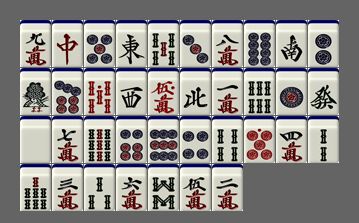0m: (148, 68, 179, 115)
0p: (244, 116, 275, 163)
0s: (84, 68, 115, 115)
1m: (212, 68, 243, 115)
1p: (276, 68, 307, 115)
1s: (20, 68, 51, 115)
1z: (116, 20, 147, 67)
2m: (212, 164, 243, 211)
2p: (308, 20, 339, 67)
2s: (308, 116, 339, 163)
2z: (276, 20, 307, 67)
3m: (52, 164, 83, 211)
3p: (180, 20, 211, 67)
3s: (84, 164, 115, 211)
3z: (116, 68, 147, 115)
4m: (276, 116, 307, 163)
4p: (180, 116, 211, 163)
4s: (212, 116, 243, 163)
4z: (180, 68, 211, 115)
5m: (180, 164, 211, 211)
5p: (84, 20, 115, 67)
5s: (148, 20, 179, 67)
5z: (20, 116, 51, 163)
6m: (116, 164, 147, 211)
6p: (116, 116, 147, 163)
6s: (244, 68, 275, 115)
6z: (308, 68, 339, 115)
7m: (52, 116, 83, 163)
7p: (52, 68, 83, 115)
7s: (20, 164, 51, 211)
7z: (52, 20, 83, 67)
8m: (212, 20, 243, 67)
8p: (244, 20, 275, 67)
8s: (148, 164, 179, 211)
9m: (20, 20, 51, 67)
9p: (148, 116, 179, 163)
9s: (84, 116, 115, 163)
